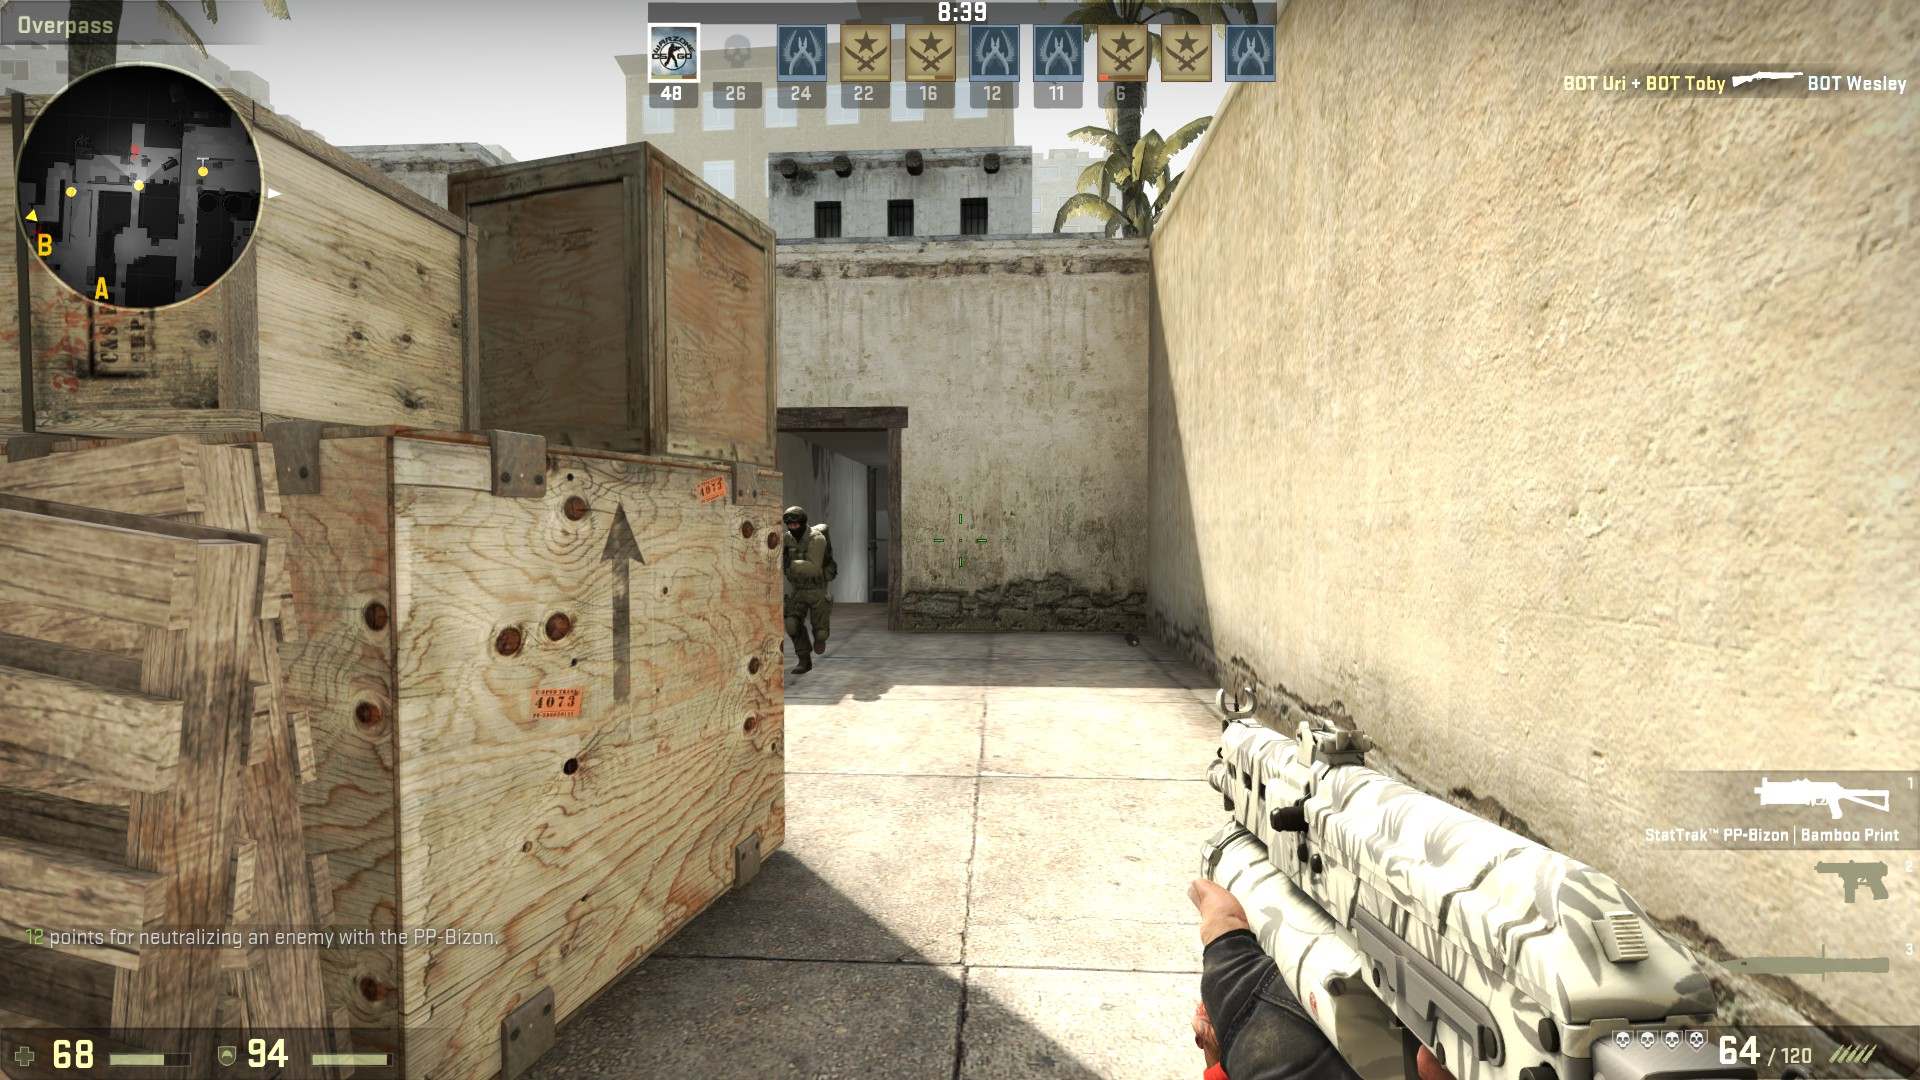c: (781, 504, 837, 676)
ch: (783, 504, 808, 538)
